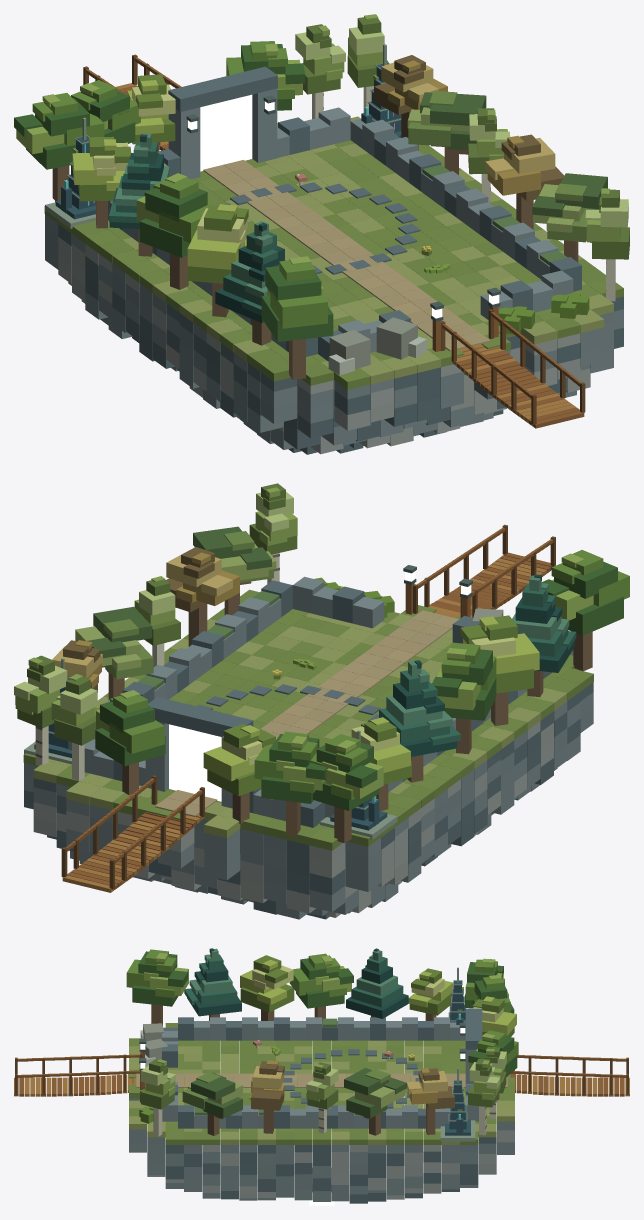
The model's file is room_boss_purified.glb.
3 views of the same model, one above another, from view 1: azimuth 30°, elevation 25°; view 2: azimuth 150°, elevation 25°; view 3: azimuth 270°, elevation 25° (orthographic). The views are drawn at different scales.
Parts seen in each view (by area): view 1: room_boss_blocks, tree0_(0, 0).001, tree0_(0, 0).002, tree0_(0, 0).003, tree4_(0, 0).001, tree2_(0, 0).001, tree5_(0, 0).001, tree3_(0, 0).002, tree3_(0, 0).001, tree4_(0, 0).002, tree2_(0, 0).002, tree1_(0, 0).001 (+13 smaller); view 2: room_boss_blocks, tree0_(0, 0).001, tree2_(0, 0).002, tree0_(0, 0).005, tree0_(0, 0).003, tree0_(0, 0).002, tree0_(0, 0).004, tree4_(0, 0).001, tree3_(0, 0).002, tree5_(0, 0).001, tree2_(0, 0).001, tree4_(0, 0).003 (+9 smaller); view 3: room_boss_blocks, tree0_(0, 0).001, tree0_(0, 0).002, tree2_(0, 0).002, tree4_(0, 0).001, tree2_(0, 0).001, tree3_(0, 0).002, tree3_(0, 0).001, tree5_(0, 0).001, tree5_(0, 0).002, tree1_(0, 0).001, tree4_(0, 0).002 (+10 smaller).
Boxes of the visible parts, box(x1,y1,x2,y2) form: room_boss_blocks: box(44, 54, 623, 454); tree0_(0, 0).001: box(261, 256, 333, 379); tree0_(0, 0).002: box(136, 173, 210, 289); tree0_(0, 0).003: box(14, 93, 104, 200); tree4_(0, 0).001: box(187, 204, 248, 317); tree2_(0, 0).001: box(215, 221, 285, 345); tree5_(0, 0).001: box(485, 134, 564, 229); tree3_(0, 0).002: box(407, 91, 486, 174); tree3_(0, 0).001: box(532, 173, 607, 262); tree4_(0, 0).002: box(72, 136, 131, 228); tree2_(0, 0).002: box(109, 133, 169, 256); tree1_(0, 0).001: box(585, 188, 629, 301); room_boss_blocks: box(23, 524, 593, 919); tree0_(0, 0).001: box(541, 550, 629, 671); tree2_(0, 0).002: box(379, 660, 460, 782); tree0_(0, 0).005: box(95, 690, 165, 795); tree0_(0, 0).003: box(310, 734, 383, 842); tree0_(0, 0).002: box(432, 642, 496, 754); tree0_(0, 0).004: box(254, 731, 326, 836); tree4_(0, 0).001: box(460, 615, 539, 725); tree3_(0, 0).002: box(75, 606, 153, 699); tree5_(0, 0).001: box(166, 547, 239, 646); tree2_(0, 0).001: box(512, 574, 576, 697); tree4_(0, 0).003: box(203, 724, 275, 823); room_boss_blocks: box(14, 1008, 629, 1205); tree0_(0, 0).001: box(126, 949, 188, 1026); tree0_(0, 0).002: box(289, 953, 353, 1020); tree2_(0, 0).002: box(346, 948, 408, 1018); tree4_(0, 0).001: box(240, 955, 294, 1020); tree2_(0, 0).001: box(184, 948, 241, 1020); tree3_(0, 0).002: box(344, 1068, 406, 1135); tree3_(0, 0).001: box(182, 1072, 242, 1135); tree5_(0, 0).001: box(251, 1060, 284, 1133); tree5_(0, 0).002: box(406, 1068, 454, 1134); tree1_(0, 0).001: box(140, 1059, 175, 1136); tree4_(0, 0).002: box(408, 968, 453, 1020).
Size of the model in its own units: 19.03 by 13.82 by 38.5.
